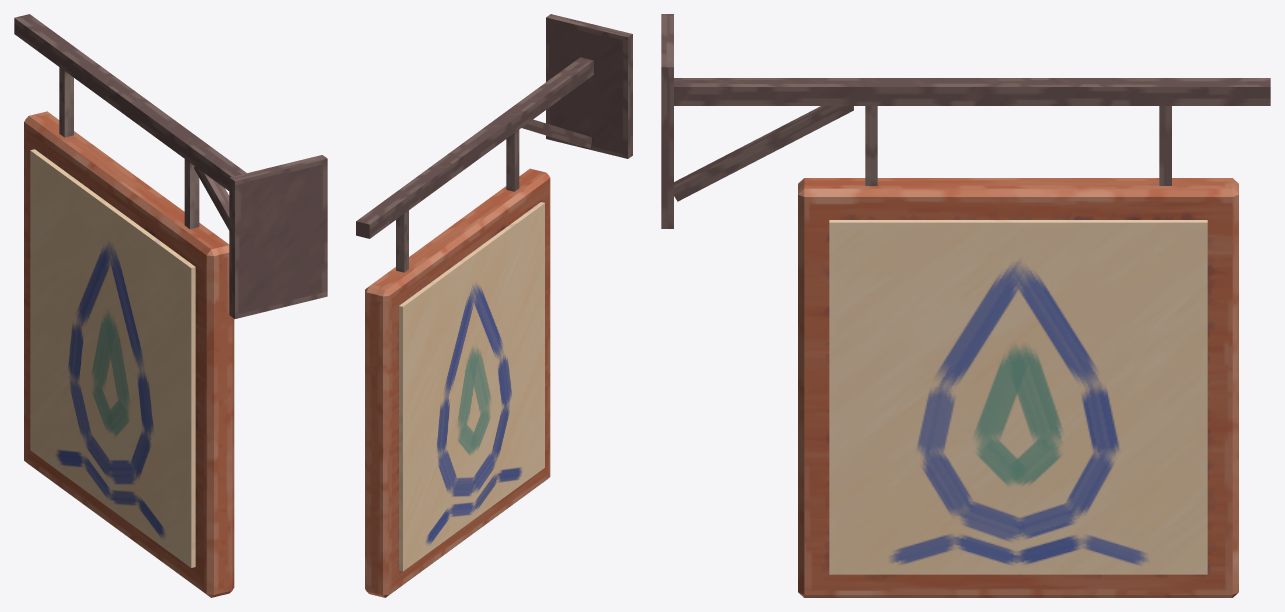
Rendered from sign_drop_body.fbx.
3 renders of one model, left to right at view 1: azimuth 30°, elevation 25°; view 2: azimuth 150°, elevation 25°; view 3: azimuth 270°, elevation 25°, orthographic. The views are drawn at different scales.
Visible parts, largest first — view 1: sign_drop_body; view 2: sign_drop_body; view 3: sign_drop_body.
Part boxes in pixels (left/top/right/bottom): sign_drop_body: left=14, top=14, right=327, bottom=597; sign_drop_body: left=356, top=14, right=632, bottom=597; sign_drop_body: left=661, top=14, right=1270, bottom=597.
Bounding box in the file's own units: 0.6 × 2.9 × 2.9.
